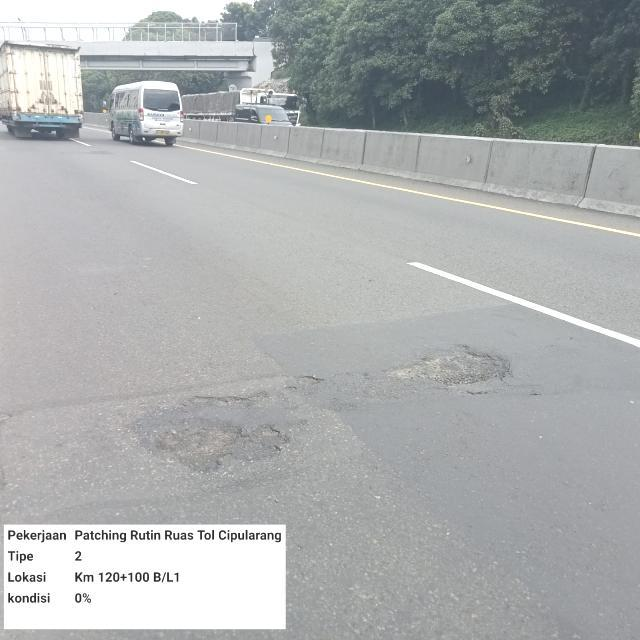Buraco: (152, 422, 291, 475), (378, 342, 515, 389)
